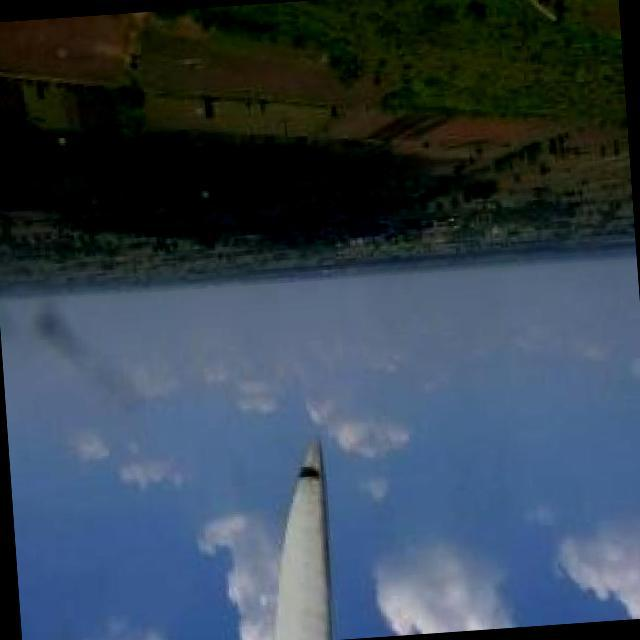Dirt: (282, 441, 335, 639)
Oil LEAKAGE: (295, 464, 320, 479)
